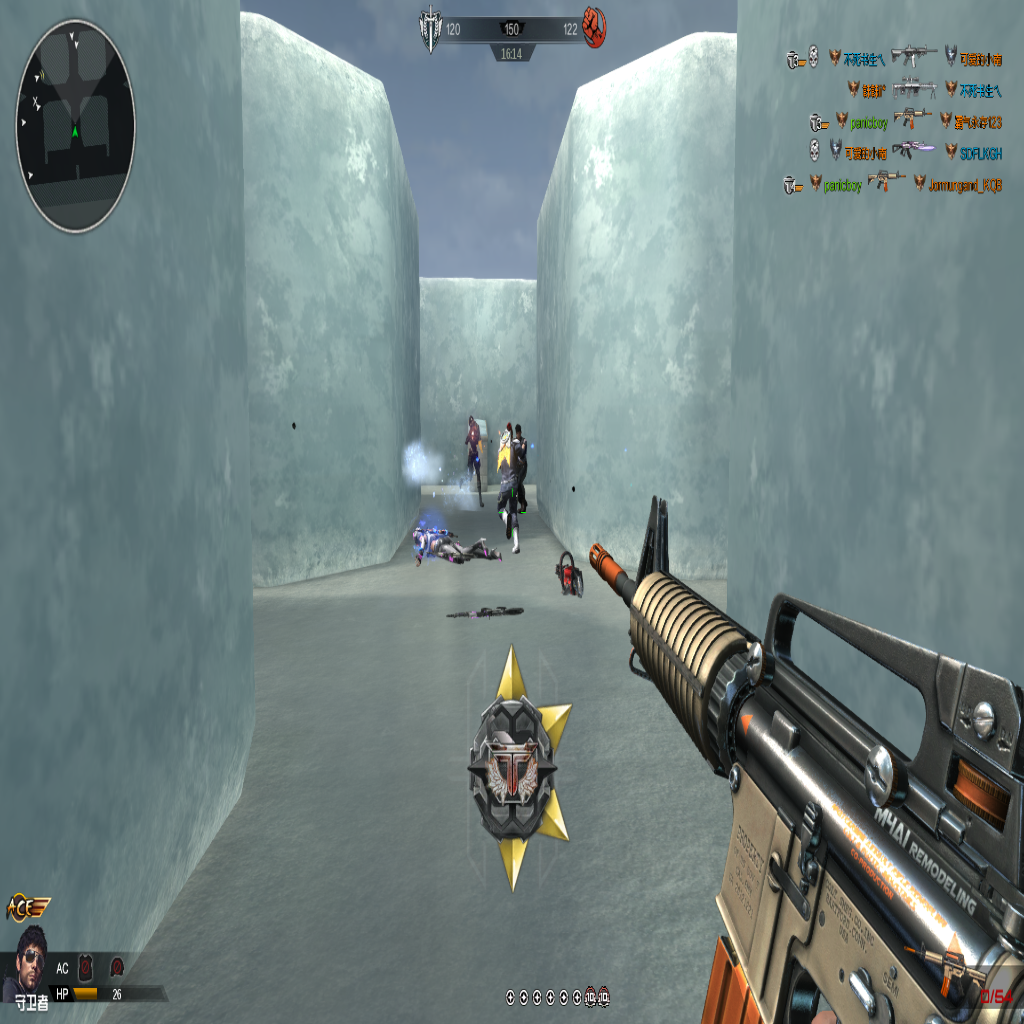ct: (465, 416, 485, 502), (513, 421, 529, 511)
tt: (496, 425, 521, 525)
